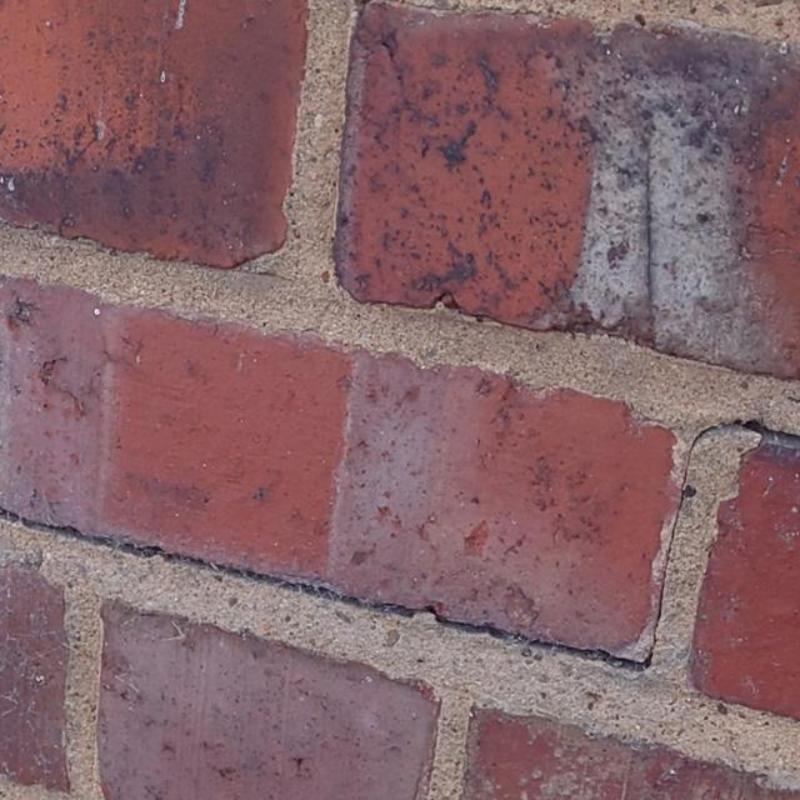crack: (0, 508, 654, 670), (651, 425, 720, 652), (727, 420, 800, 450)
